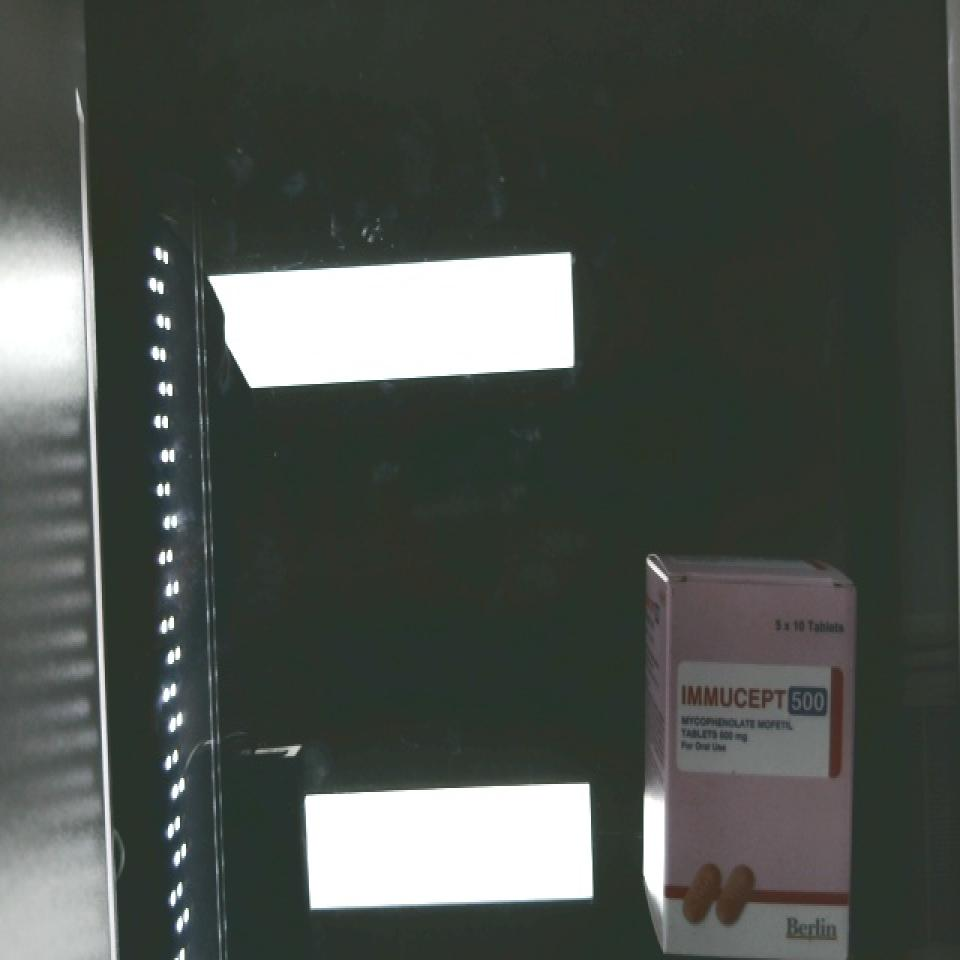medicine_box: (660, 573, 855, 958)
medicine_label_obb: (675, 666, 844, 728)
